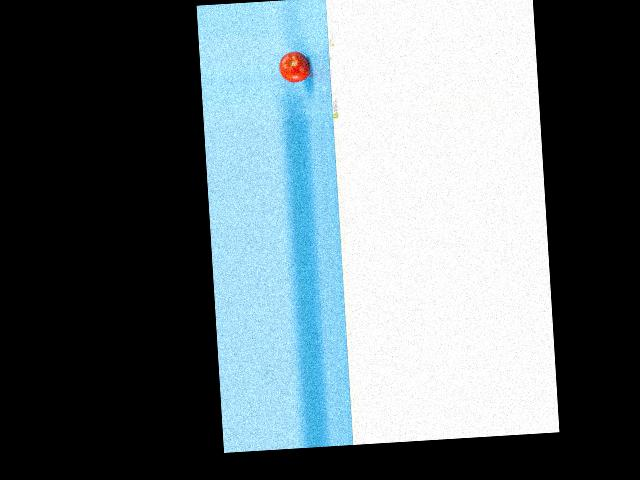tomato: (278, 50, 310, 83)
